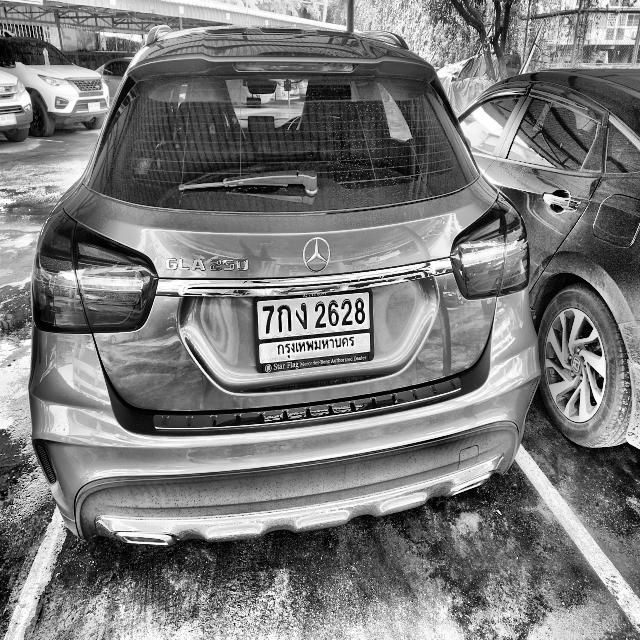license-plate: (250, 289, 375, 378)
